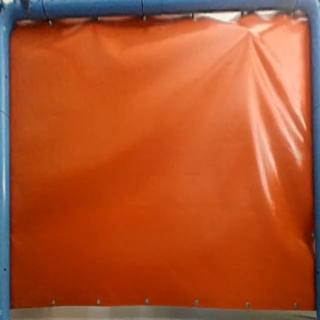Hit-hRxx: (242, 28, 264, 42)
